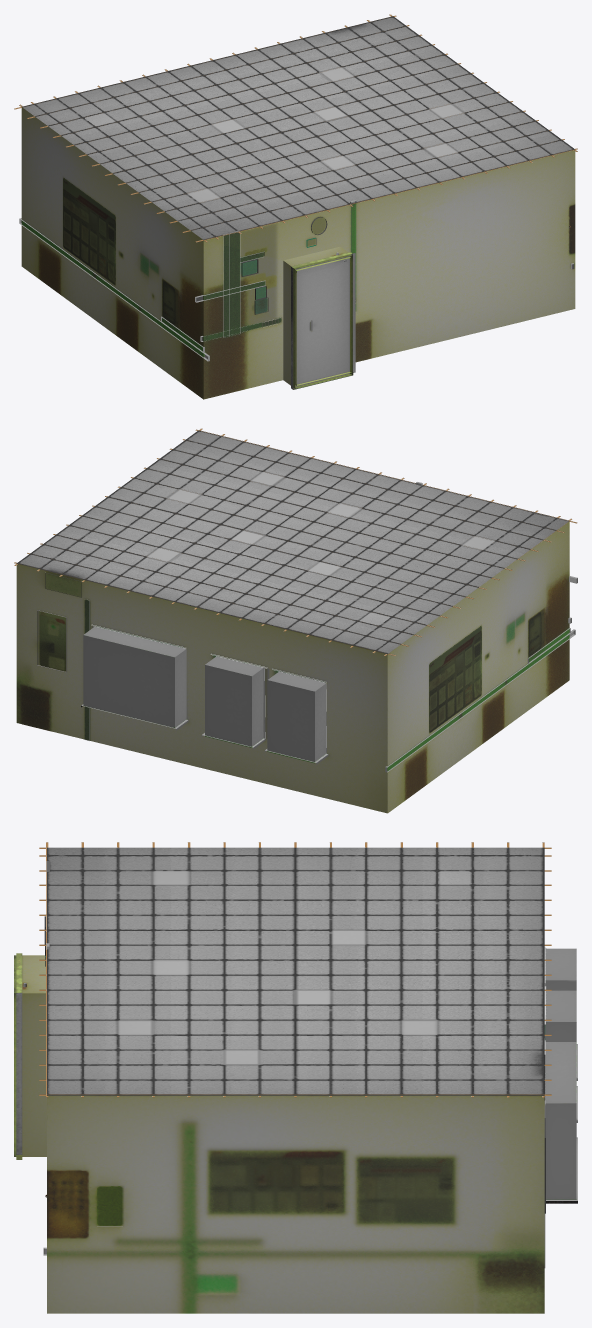
File: dsp_room.fbx
The picture shows the model from 3 angles, top to bottom: view 1: azimuth 30°, elevation 25°; view 2: azimuth 150°, elevation 25°; view 3: azimuth 270°, elevation 25°; orthographic projection. The views are drawn at different scales.
Parts seen in each view (by area): view 1: DCP, plastic, wood; view 2: DCP, plastic, wood, shtor; view 3: DCP, wood, plastic.
Boxes of the visible parts, box(x1,y1,x2,y2) form: DCP: box(21, 16, 575, 399); plastic: box(19, 200, 574, 361); wood: box(14, 14, 577, 242); DCP: box(16, 430, 569, 813); plastic: box(81, 482, 577, 772); wood: box(14, 428, 577, 655); shtor: box(91, 624, 326, 753); DCP: box(14, 847, 576, 1313); wood: box(39, 842, 551, 1097); plastic: box(23, 861, 577, 1267).
Bounding box in the file's own units: 7.07 × 2.88 × 6.61.
